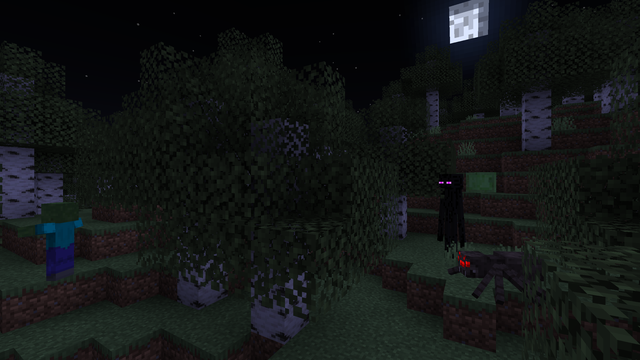araignees: (458, 241, 514, 302)
endermens: (440, 171, 461, 262)
slimes: (467, 171, 491, 192)
zombies: (40, 203, 78, 283)
